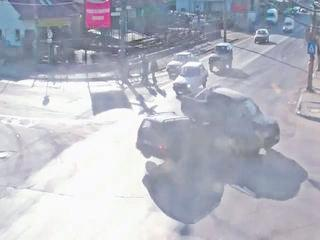Car: (185, 89, 281, 148), (135, 111, 207, 158), (177, 63, 207, 88), (168, 52, 199, 73), (211, 42, 232, 71), (265, 8, 278, 24), (255, 30, 268, 44), (283, 17, 293, 32)
Major Accident: (135, 90, 281, 158)
